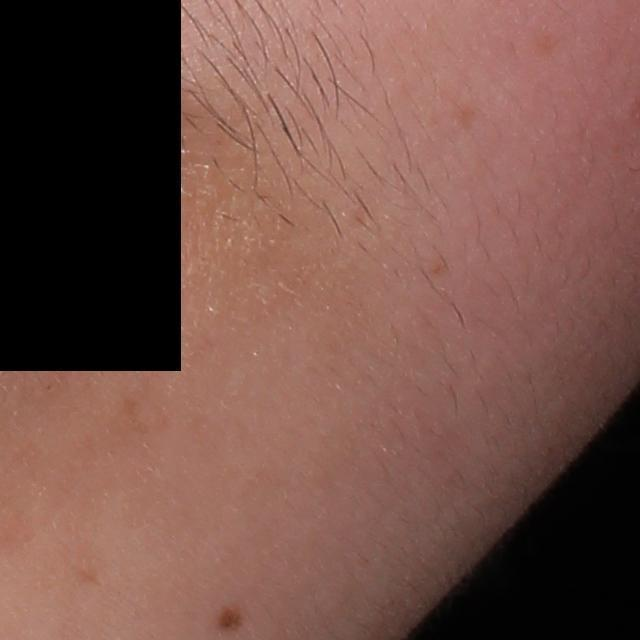nevus: (215, 603, 245, 632)
